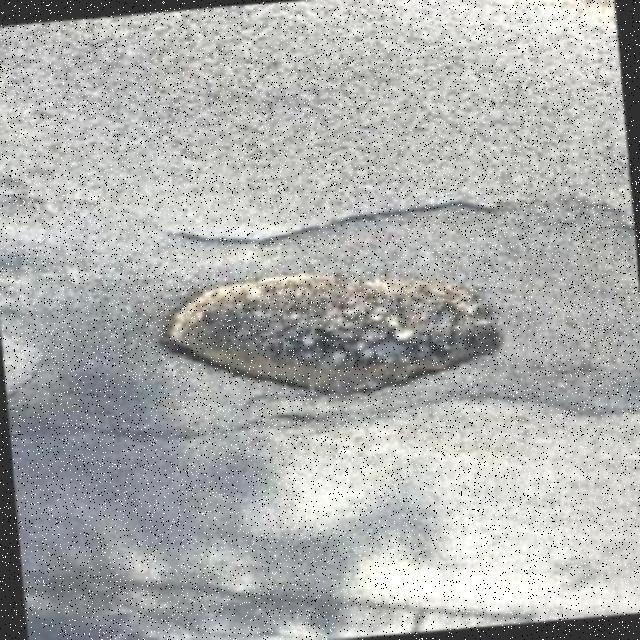Pothole: (161, 272, 502, 395)
